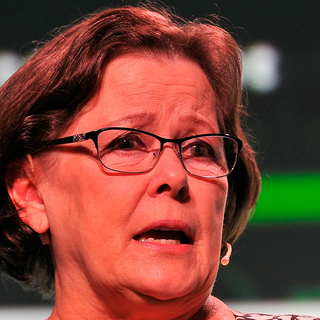eye: (103, 133, 152, 158), (181, 140, 217, 162)
